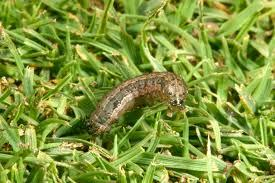fallarmy_worm: (83, 74, 191, 137)
